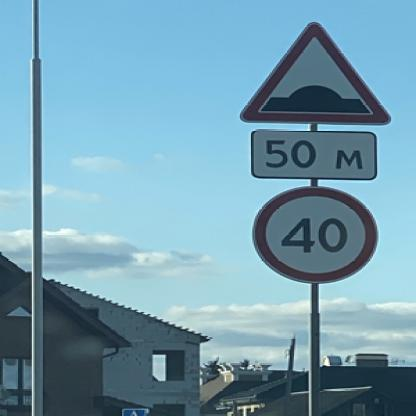crosswalk: (121, 408, 147, 416)
speedlimit: (246, 185, 378, 282)
